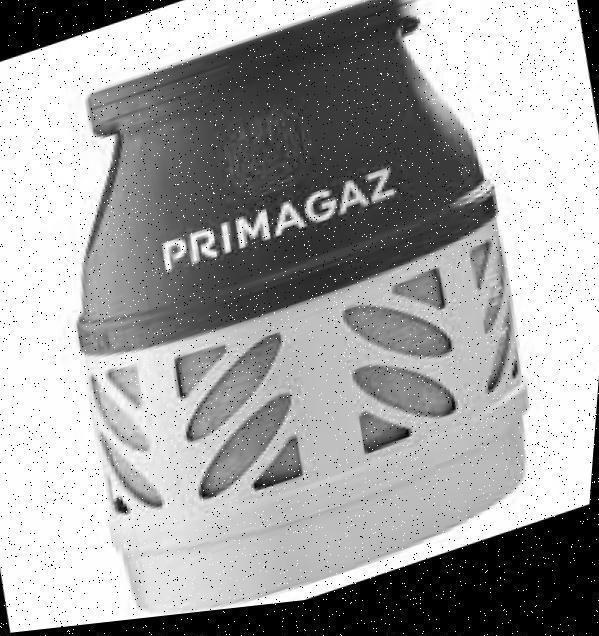cylinder: (1, 0, 599, 636)
